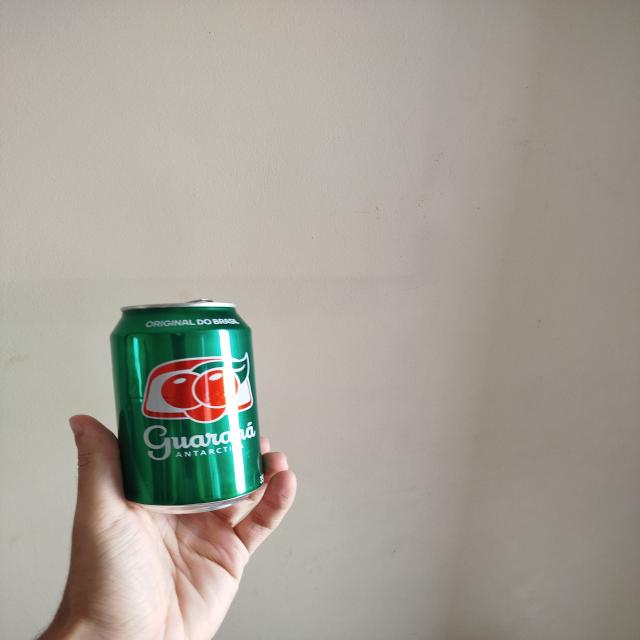Guarana: (108, 303, 264, 515)
